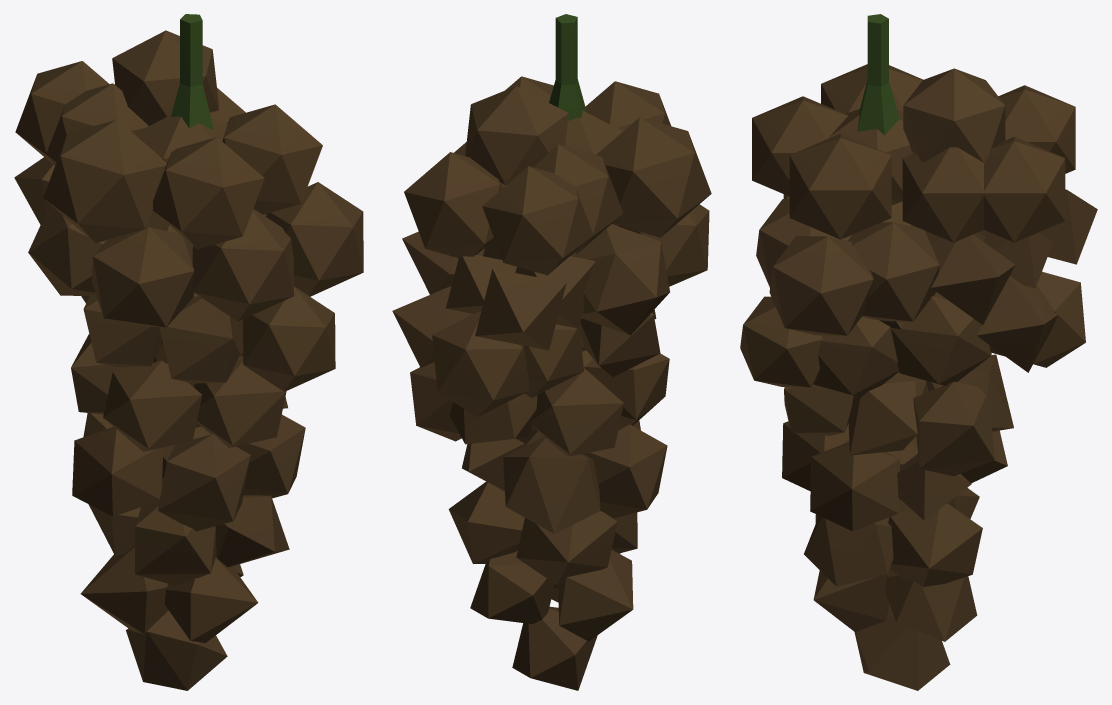
File: Grape_02.fbx
3 views of the same model, side by side, from view 1: azimuth 30°, elevation 25°; view 2: azimuth 150°, elevation 25°; view 3: azimuth 270°, elevation 25° (orthographic). The views are drawn at different scales.
Parts seen in each view (by area): view 1: Grape_02; view 2: Grape_02; view 3: Grape_02.
Part boxes in pixels (x1,y1,x2,y2): Grape_02: [14, 14, 363, 690]; Grape_02: [392, 14, 711, 690]; Grape_02: [740, 14, 1097, 690].
Size of the model in its own units: 0.1448 by 0.3379 by 0.1649.
